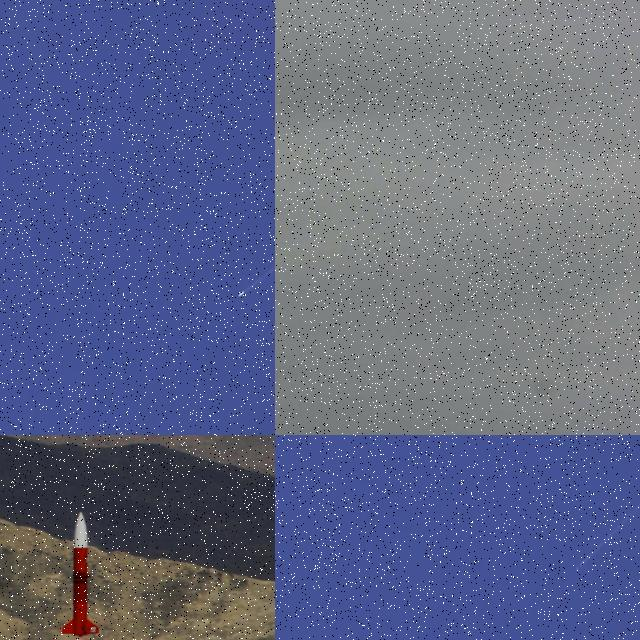Rocket: (61, 510, 100, 637), (575, 559, 586, 571), (238, 290, 245, 297)
